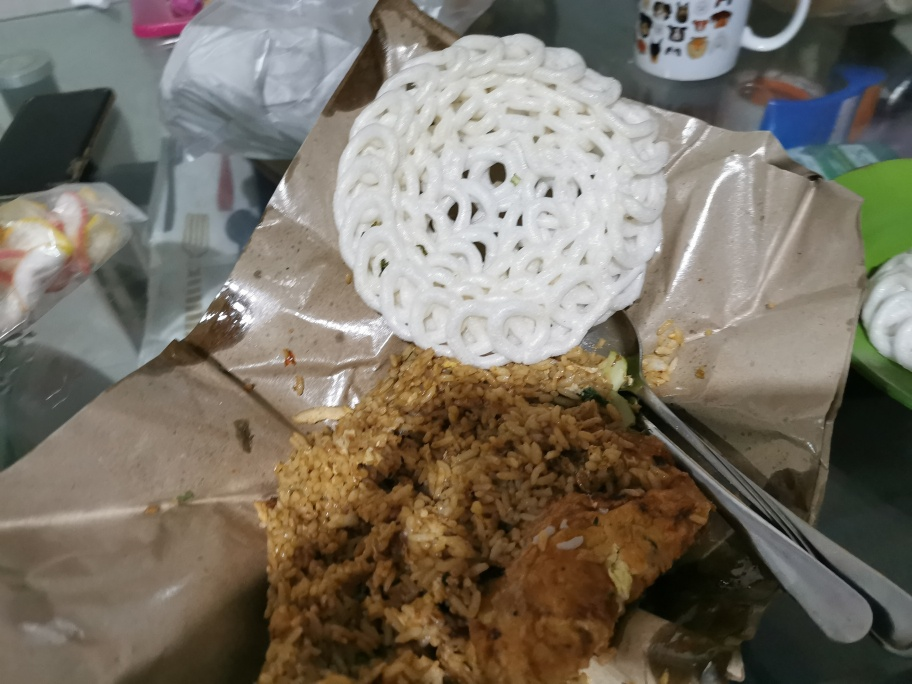kerupuk: (331, 34, 667, 346)
nasi goreng: (260, 354, 716, 684)
